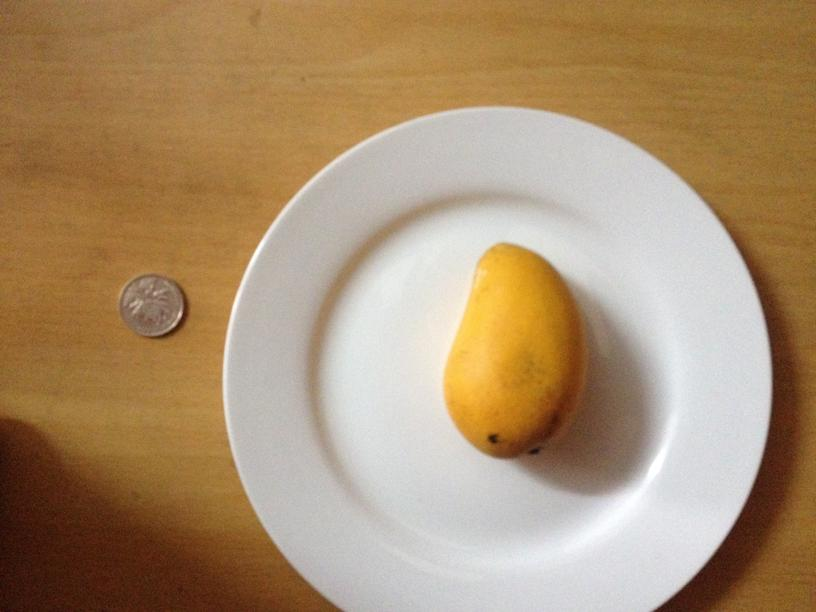coin: (116, 271, 186, 337)
mango: (446, 237, 587, 460)
